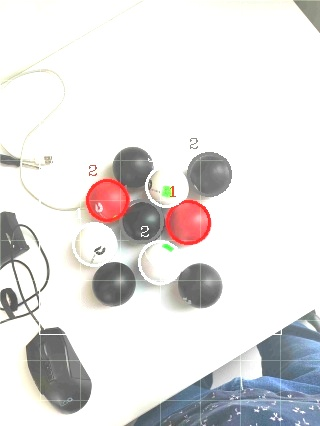Pelota blanca: (0, 65, 68, 163), (18, 153, 86, 211), (175, 262, 225, 310), (135, 238, 182, 286), (71, 220, 118, 267), (143, 166, 190, 208), (292, 0, 320, 32)
Pelota negra: (129, 318, 320, 425), (26, 331, 92, 416), (185, 150, 233, 198), (175, 262, 222, 310), (90, 260, 137, 307), (111, 145, 153, 190), (121, 198, 163, 243)
Pelota roja: (164, 198, 211, 246), (84, 177, 131, 224)
